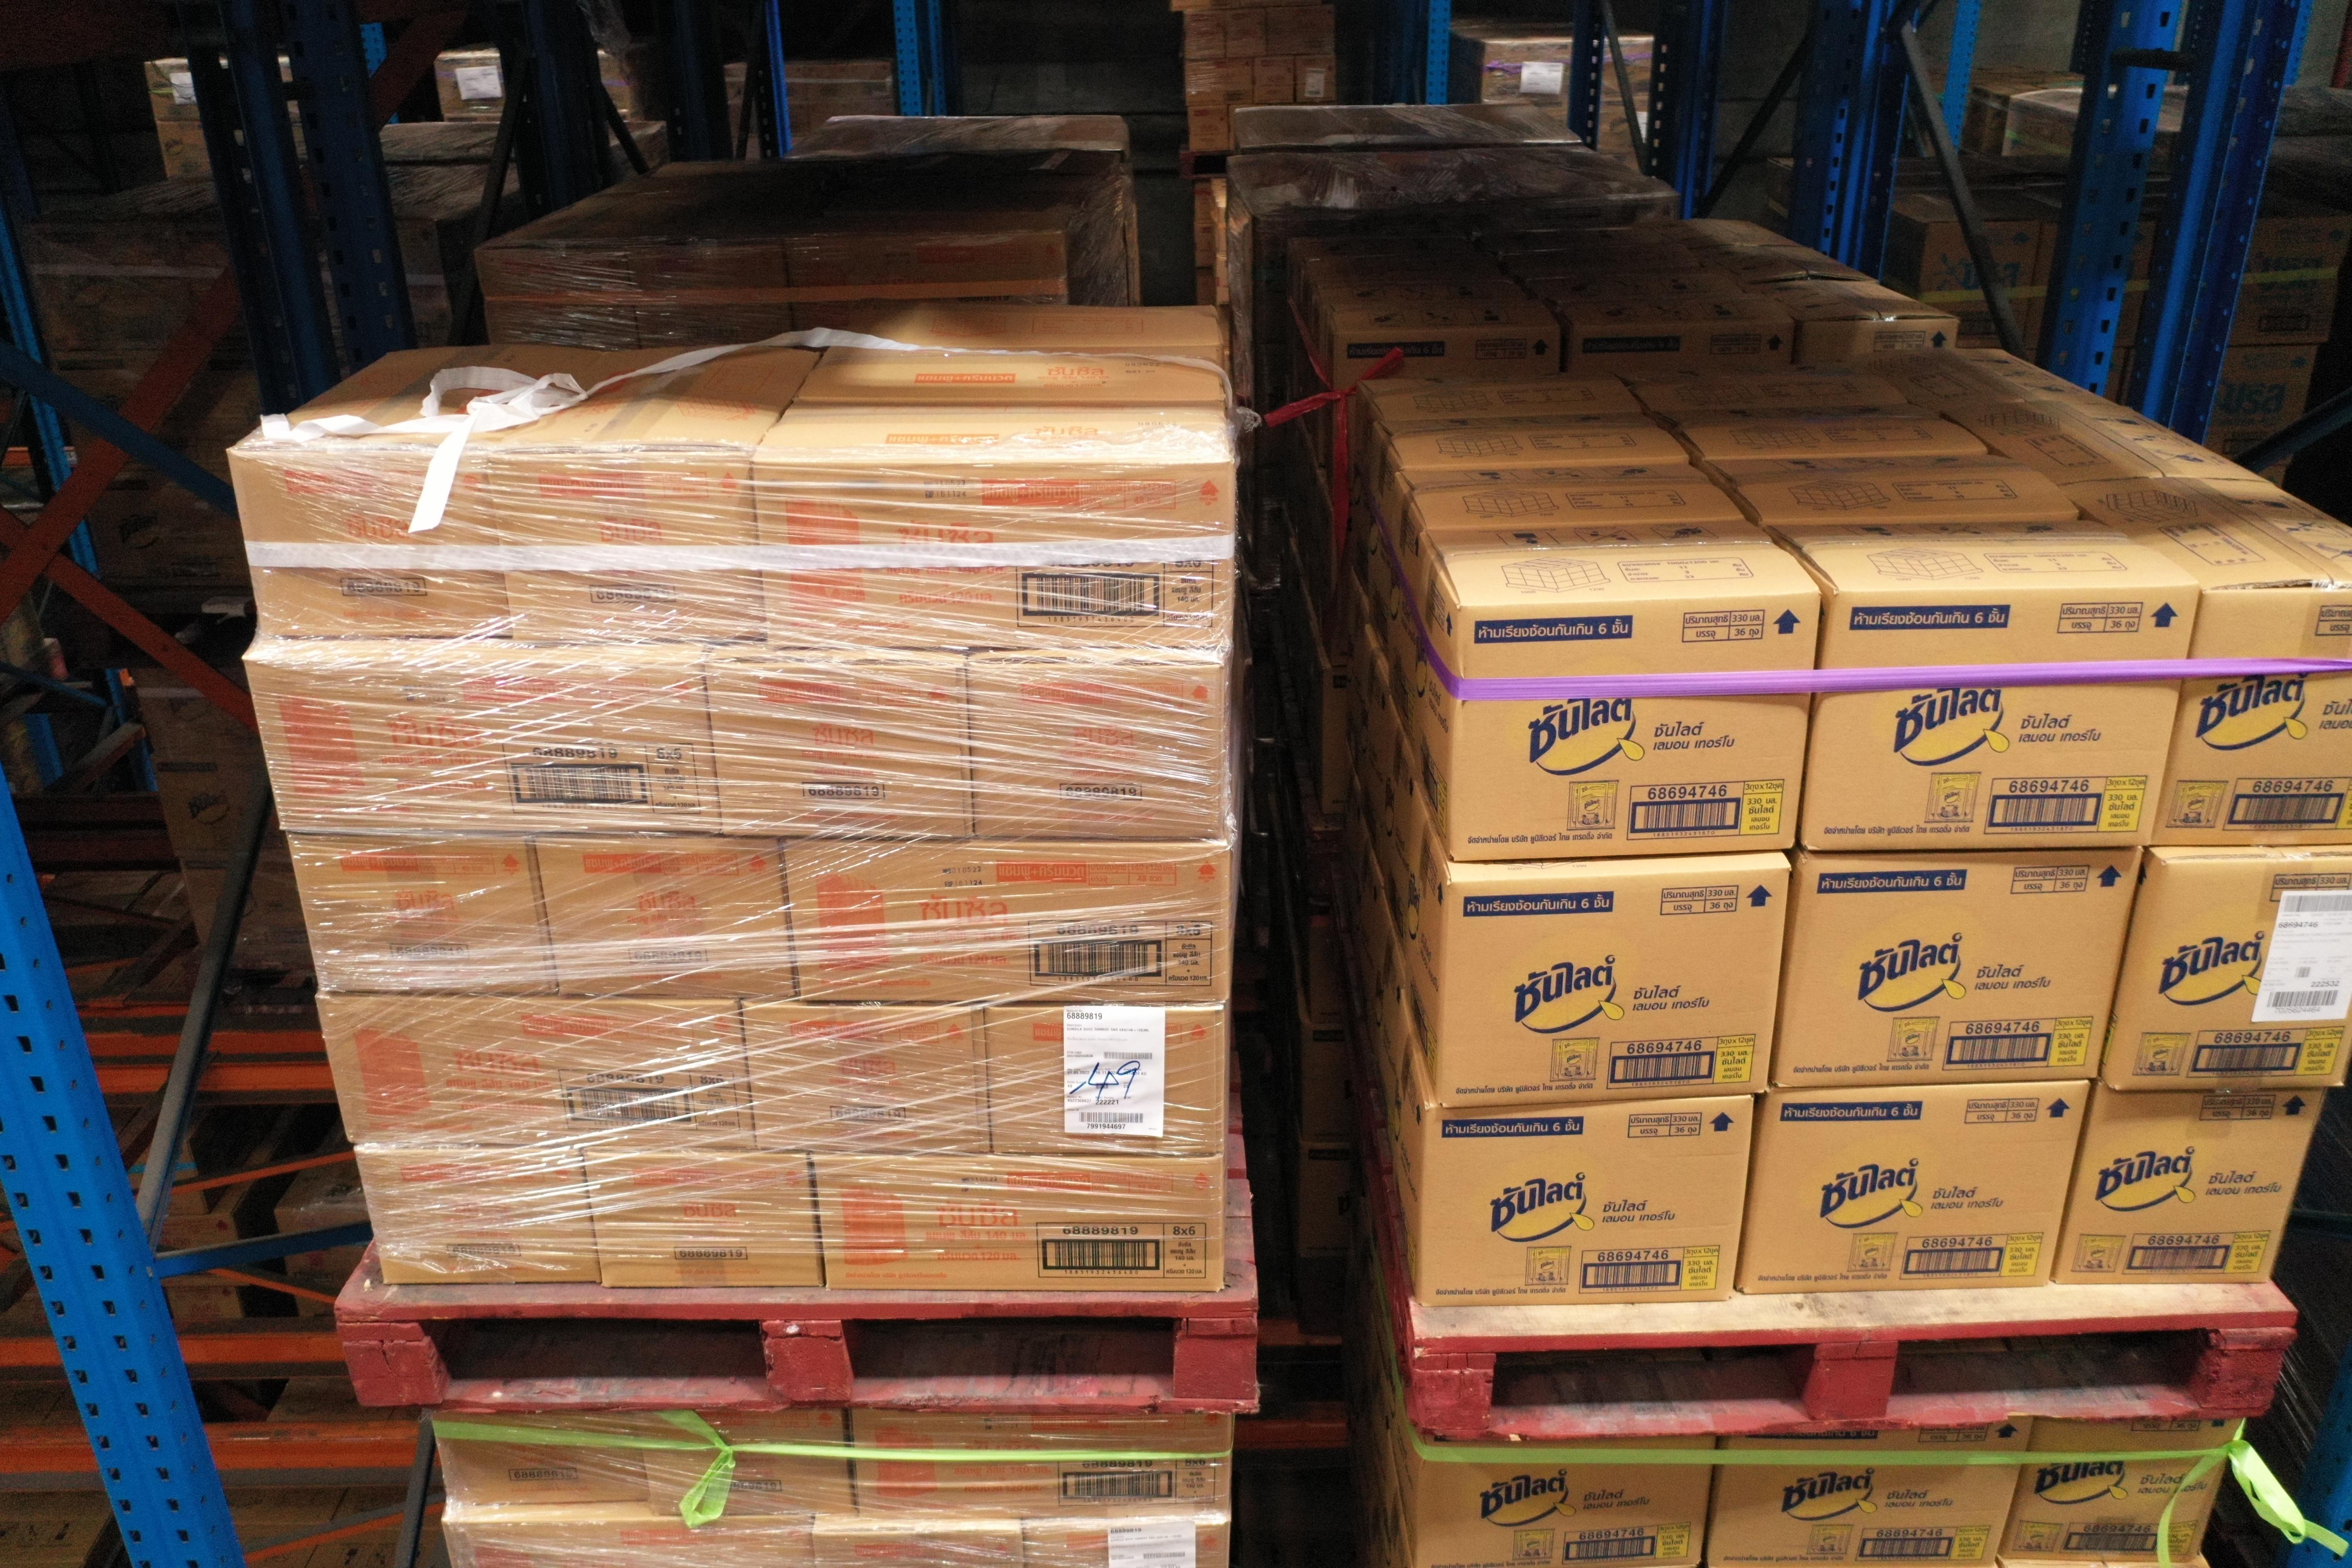-: (1801, 584, 2201, 854), (1456, 593, 1815, 861), (1769, 845, 2147, 1095), (756, 457, 1235, 653), (243, 653, 719, 843), (1440, 864, 1792, 1113), (1739, 1081, 2096, 1298), (775, 840, 1228, 1010), (1423, 1095, 1757, 1312), (320, 994, 758, 1153), (814, 1150, 1225, 1304), (2105, 856, 2352, 1090), (488, 450, 770, 649), (2053, 1085, 2329, 1288), (231, 446, 513, 644), (2154, 586, 2352, 849), (703, 658, 976, 843), (1704, 1421, 2037, 1568), (969, 665, 1228, 842), (290, 831, 556, 997), (854, 1407, 1235, 1522), (537, 833, 791, 1004), (738, 997, 992, 1158), (1416, 1433, 1718, 1568), (982, 999, 1225, 1158), (2004, 1416, 2247, 1563), (352, 1146, 598, 1281), (579, 1155, 822, 1290), (640, 1410, 857, 1521), (432, 1410, 649, 1510)
